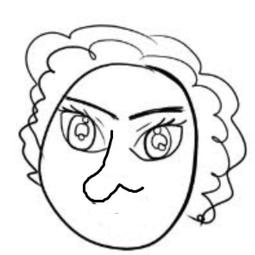eye: (127, 117, 184, 164), (56, 105, 105, 151)
eyebrow: (66, 95, 122, 122), (126, 105, 186, 121)
large_nose: (80, 128, 144, 207)
